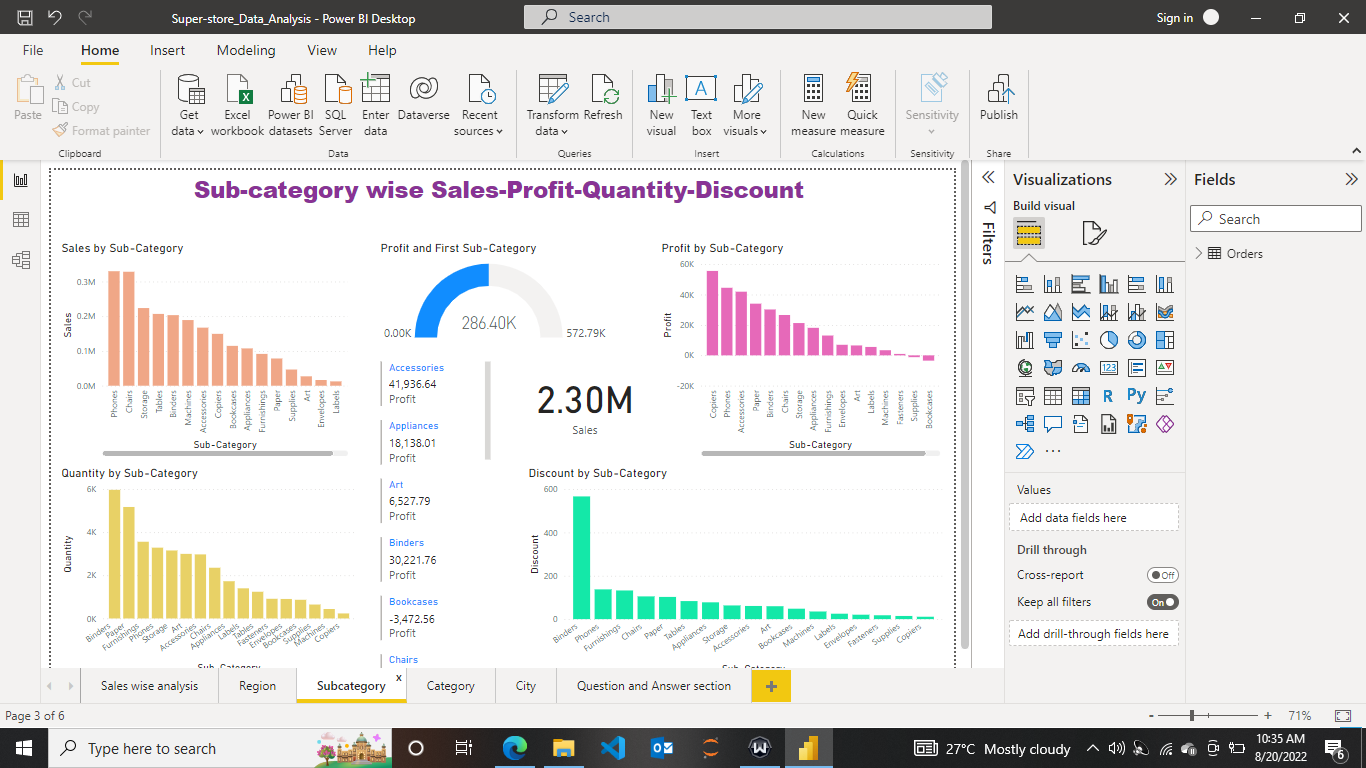

What the dashboard file says about the page in this screenshot:
{"tool":"powerbi","page":{"name":"Subcategory","canvas":[1280,720],"ordinal":2},"visuals":[{"type":"textbox","box":[9.6,0,1238.8,71.4],"z":0},{"type":"columnChart","fields":{"Category":["Orders.Sub-Category"],"Y":["Sum(Orders.Profit)"]},"box":[861.1,100.3,405.2,310.4],"z":1000},{"type":"clusteredColumnChart","fields":{"Category":["Orders.Sub-Category"],"Y":["Sum(Orders.Sales)"]},"box":[9.6,100.3,416.1,310.4],"z":2000},{"type":"clusteredColumnChart","fields":{"Category":["Orders.Sub-Category"],"Y":["Sum(Orders.Quantity)"]},"box":[9.6,420.3,425.8,299.4],"z":3000},{"type":"clusteredColumnChart","fields":{"Category":["Orders.Sub-Category"],"Y":["Sum(Orders.Discount)"]},"box":[671.3,419.8,596.5,300.1],"z":4000},{"type":"gauge","fields":{"Y":["Sum(Orders.Profit)"]},"box":[461.5,100.3,333.7,155.2],"z":5000},{"type":"multiRowCard","fields":{"Values":["Orders.Sub-Category","Sum(Orders.Profit)"]},"box":[461.9,266.5,166.4,453.5],"z":6000},{"type":"card","fields":{"Values":["Sum(Orders.Sales)"]},"box":[682.3,266,150.3,126.4],"z":7000}]}

Visuals, with their boxes on the page's 1280x720 design canvas (x1, y1, x2, y2). These are canvas units, not pixel positions in the 1366x768 screenshot, which may show the page scaled, cropped or inside an application window:
textbox: [10,0,1248,71]
columnChart - Orders.Sub-Category x Sum(Orders.Profit): [861,100,1266,411]
clusteredColumnChart - Orders.Sub-Category x Sum(Orders.Sales): [10,100,426,411]
clusteredColumnChart - Orders.Sub-Category x Sum(Orders.Quantity): [10,420,435,720]
clusteredColumnChart - Orders.Sub-Category x Sum(Orders.Discount): [671,420,1268,720]
gauge - Sum(Orders.Profit): [462,100,795,256]
multiRowCard - Orders.Sub-Category x Sum(Orders.Profit): [462,266,628,720]
card - Sum(Orders.Sales): [682,266,833,392]
